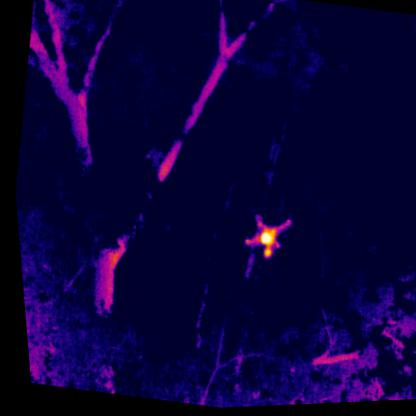drone: (236, 211, 291, 264)
